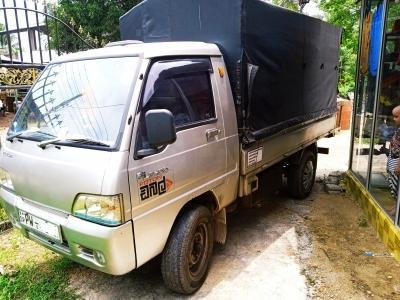truck: (1, 1, 342, 297)
